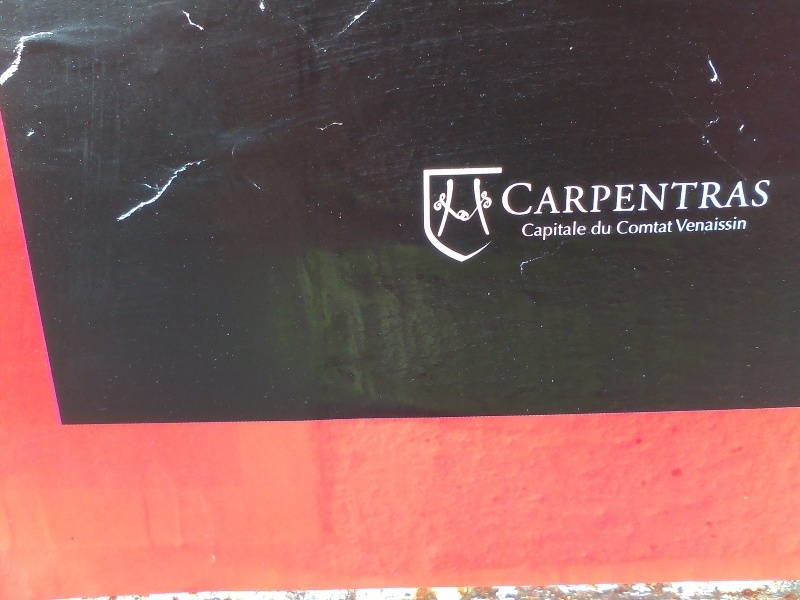text: (513, 175, 528, 217), (529, 175, 544, 217), (545, 175, 560, 217), (561, 175, 576, 217), (577, 175, 592, 217), (593, 175, 608, 217), (609, 175, 624, 217), (625, 175, 640, 217), (641, 175, 656, 217), (657, 175, 672, 217), (673, 175, 688, 217), (689, 175, 704, 217), (705, 175, 720, 217), (721, 175, 736, 217), (737, 175, 752, 217), (753, 175, 768, 217), (499, 175, 512, 217), (529, 218, 544, 242), (545, 218, 560, 242), (561, 218, 576, 242), (689, 215, 704, 233), (705, 215, 720, 233), (721, 215, 736, 233), (577, 218, 588, 242), (593, 219, 608, 236), (625, 219, 640, 235), (641, 219, 656, 235), (657, 219, 672, 235), (675, 215, 688, 233), (769, 175, 774, 217), (737, 215, 748, 233), (523, 218, 528, 242), (617, 219, 624, 235), (588, 219, 592, 236), (609, 219, 613, 236), (673, 219, 674, 235)
